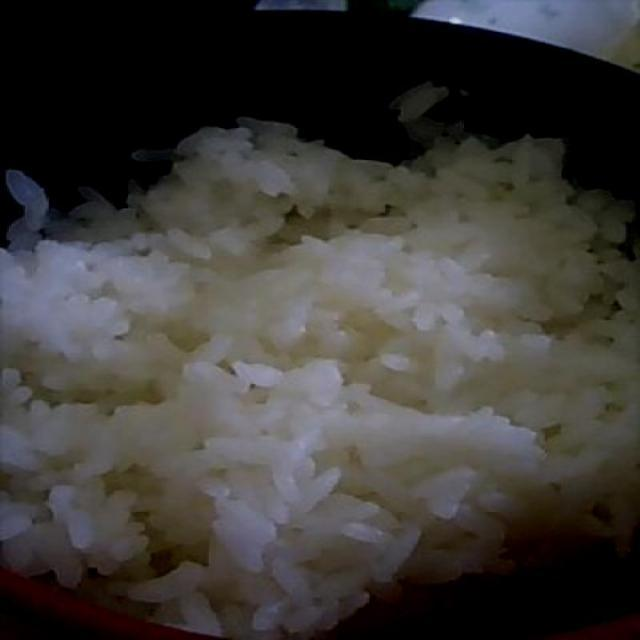rice: (2, 116, 639, 639)
